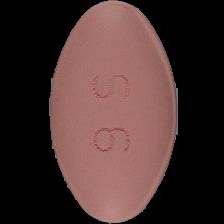63187-449: (0, 0, 224, 224)
